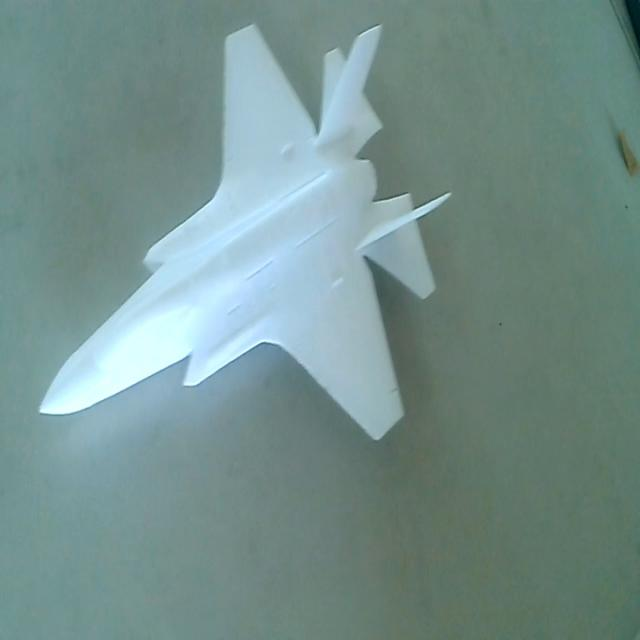Jet: (37, 14, 452, 460)
